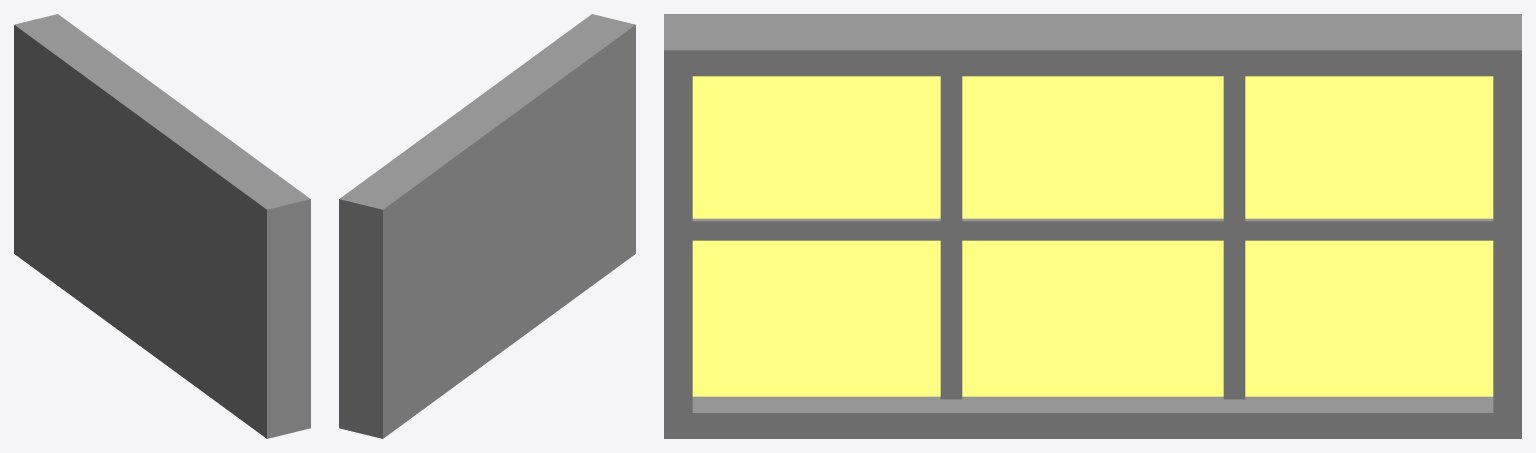
Rendered from Finestra.fbx.
3 views of the same model, side by side, from view 1: azimuth 30°, elevation 25°; view 2: azimuth 150°, elevation 25°; view 3: azimuth 270°, elevation 25° (orthographic). The views are drawn at different scales.
Parts seen in each view (by area): view 1: Finestra; view 2: Finestra; view 3: Finestra, Finestra.001.
Part boxes in pixels (x1,y1,x2,y2): Finestra: (14, 14, 310, 438); Finestra: (339, 14, 635, 438); Finestra: (664, 14, 1521, 438); Finestra.001: (692, 76, 1493, 399).
Size of the model in its own units: 0.2 by 2 by 1.
